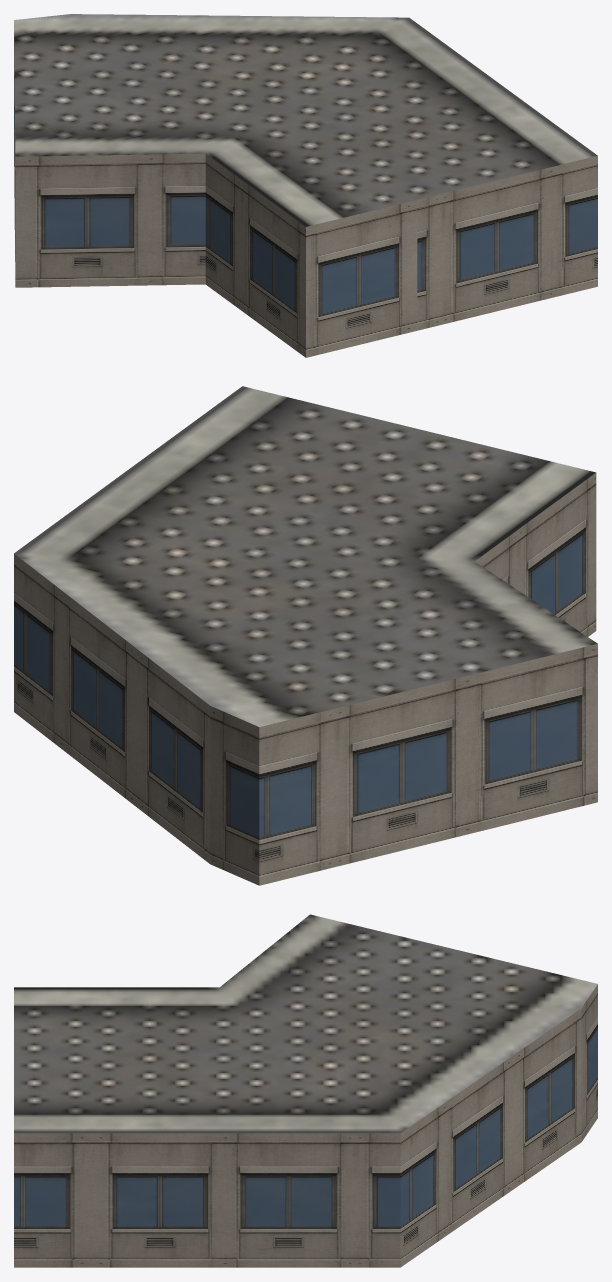
The model's file is building_light_a_40.glb.
3 views of the same model, one above another, from view 1: azimuth 30°, elevation 25°; view 2: azimuth 150°, elevation 25°; view 3: azimuth 270°, elevation 25° (orthographic). The views are drawn at different scales.
Parts seen in each view (by area): view 1: buildings/saxarba/building_light/building_light_a_40; view 2: buildings/saxarba/building_light/building_light_a_40; view 3: buildings/saxarba/building_light/building_light_a_40.
Boxes of the visible parts, <box> form: buildings/saxarba/building_light/building_light_a_40: <box>14,14,597,357</box>; buildings/saxarba/building_light/building_light_a_40: <box>14,386,597,885</box>; buildings/saxarba/building_light/building_light_a_40: <box>14,914,597,1267</box>.
Size of the model in its own units: 63 by 18 by 71.
